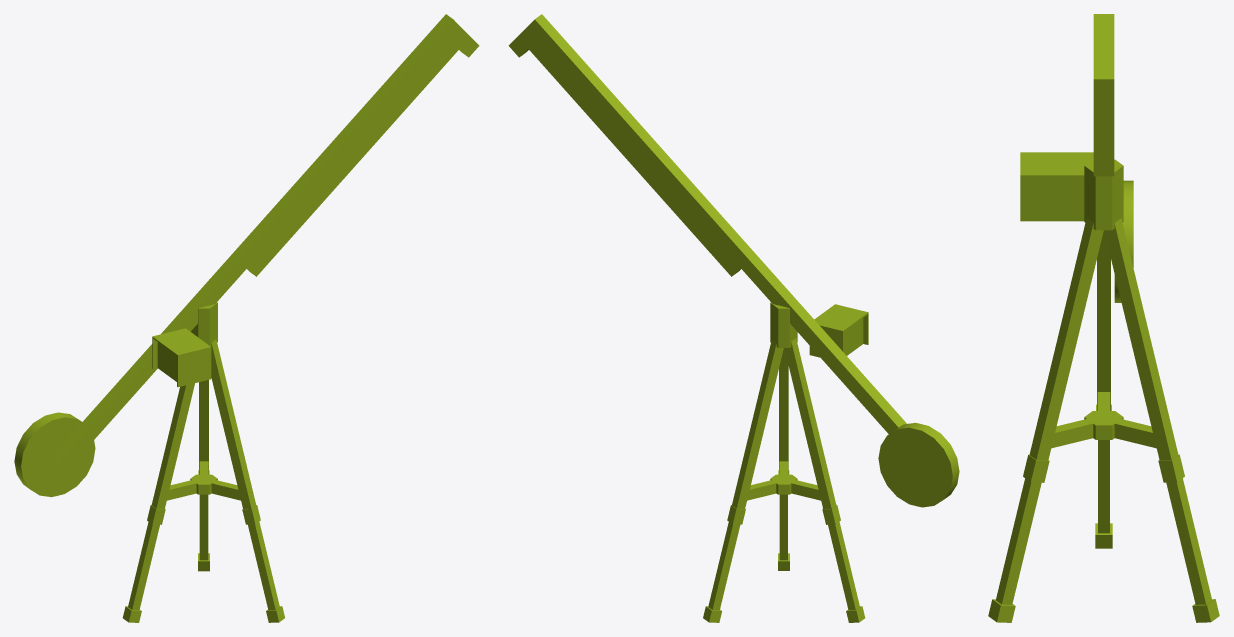
File: studio_camerastand.obj
The picture shows the model from 3 angles, left to right: view 1: azimuth 30°, elevation 25°; view 2: azimuth 150°, elevation 25°; view 3: azimuth 270°, elevation 25°; orthographic projection. The views are drawn at different scales.
Parts seen in each view (by area): view 1: studio_; view 2: studio_; view 3: studio_.
Boxes of the visible parts, left/top/right/bottom form: studio_: left=14, top=14, right=479, bottom=622; studio_: left=508, top=14, right=959, bottom=622; studio_: left=988, top=14, right=1219, bottom=622.
Size of the model in its own units: 3.73 by 4.16 by 1.16.
